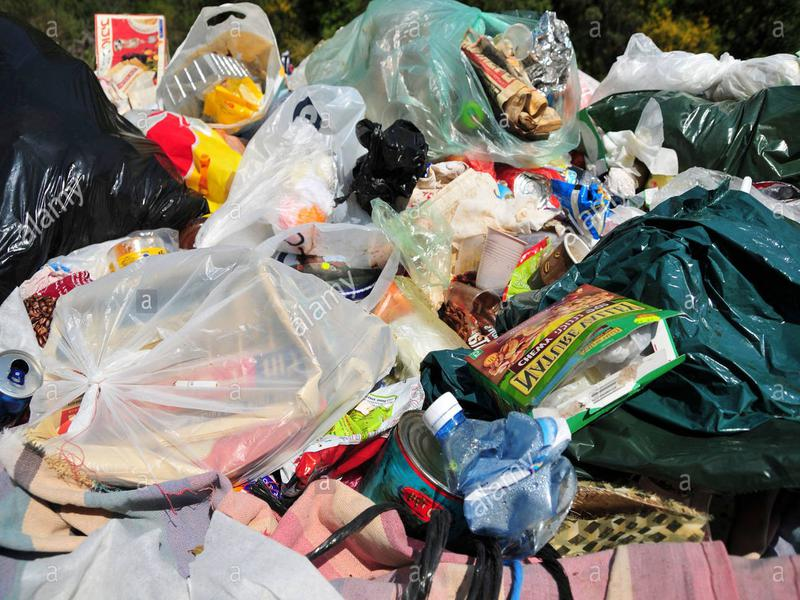can: (1, 347, 41, 434)
cardboard: (465, 286, 689, 428)
cup: (472, 221, 531, 295)
plastic: (33, 234, 399, 487), (1, 15, 211, 269), (301, 2, 587, 165), (191, 79, 367, 251), (585, 86, 800, 178), (591, 29, 800, 94), (349, 110, 434, 215)
